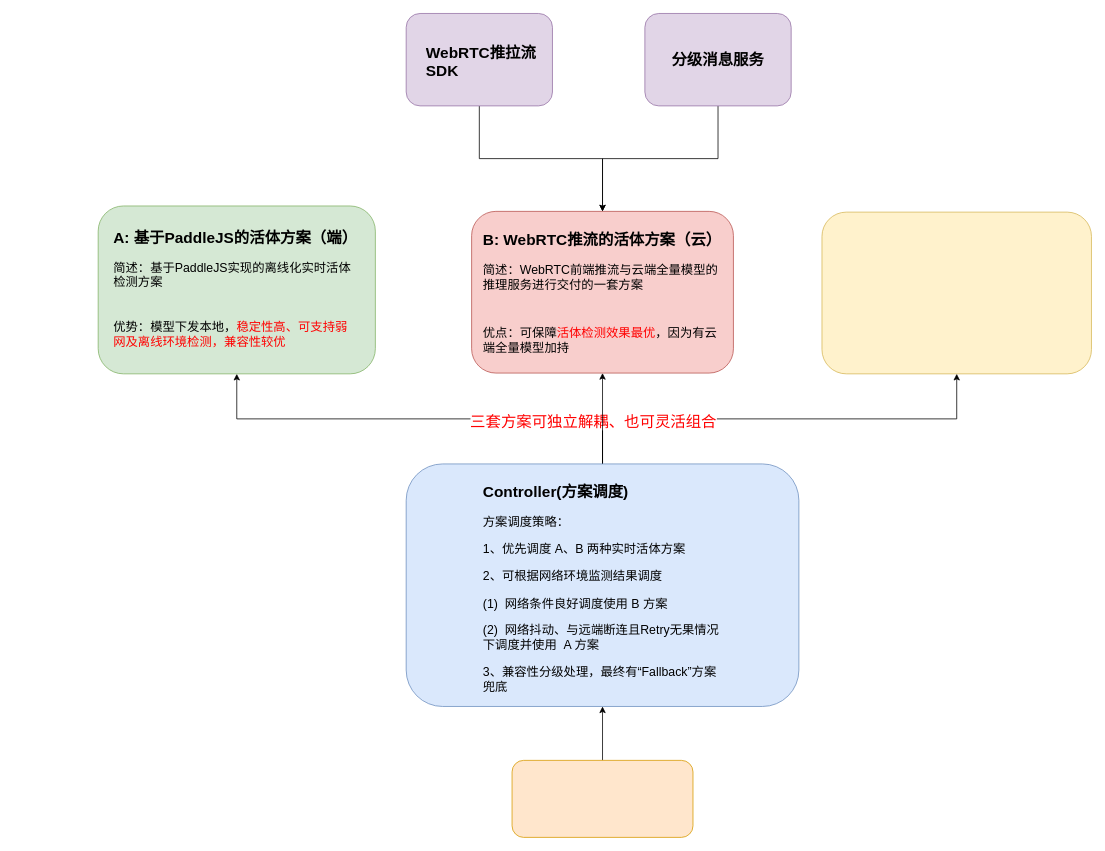
This 1105x851 diagram has some shape labels left out. The centre of each missing label's shape, as x and y in pixels:
C: 视频录制的Fallback方案 简述：非实时活体方式，用户需手动调取系统相机录制一段人脸视频上传云端进行活检 优势： 兼容性最优: point 956,292
V2 版本 “端”“云”结合: point 602,798
